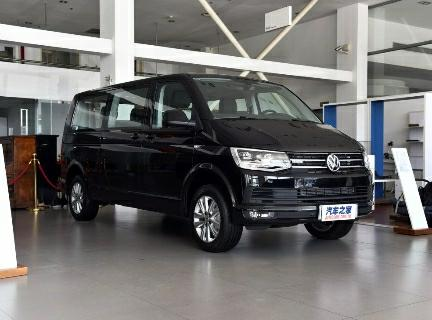car: (48, 61, 382, 256)
